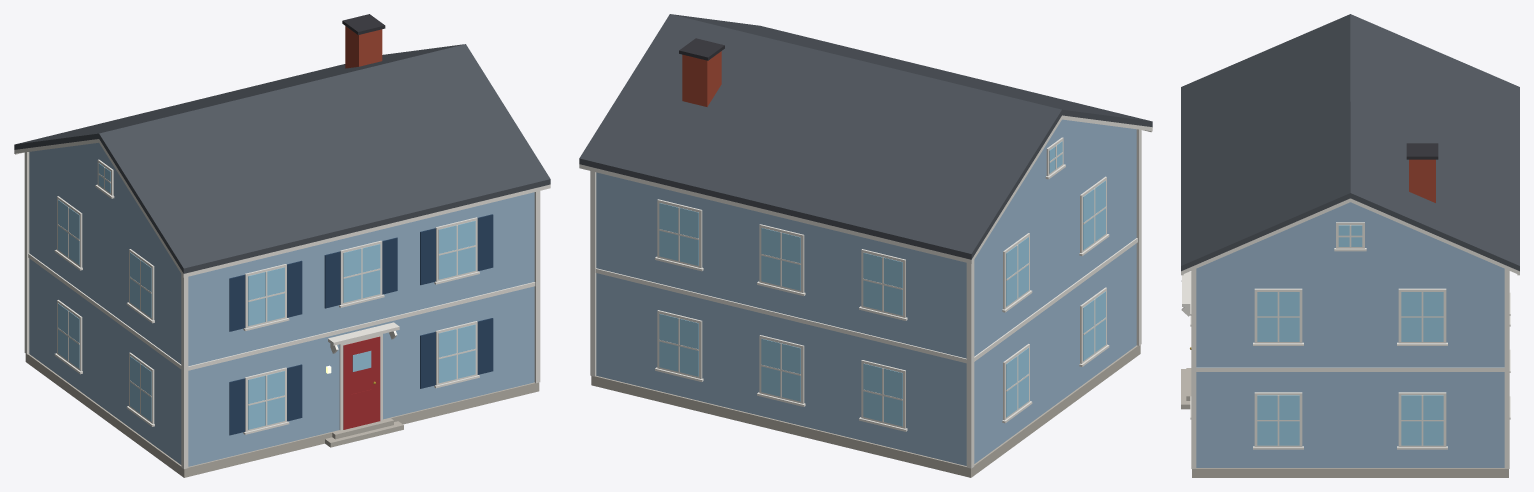
Rendered from house_a.glb.
3 renders of one model, left to right at view 1: azimuth 30°, elevation 25°; view 2: azimuth 150°, elevation 25°; view 3: azimuth 270°, elevation 25°, orthographic. The views are drawn at different scales.
Visible parts, largest first — view 1: body; view 2: body; view 3: body.
Part boxes in pixels (left/top/right/bottom): body: left=14, top=14, right=550, bottom=477; body: left=579, top=14, right=1152, bottom=477; body: left=1181, top=14, right=1519, bottom=477.
Bounding box in the file's own units: 1000 × 778 × 800.
